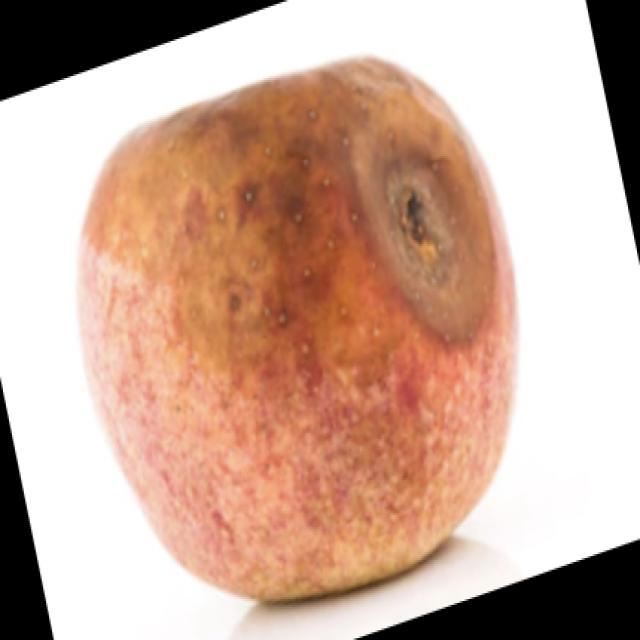Rotten: (66, 50, 506, 598)
